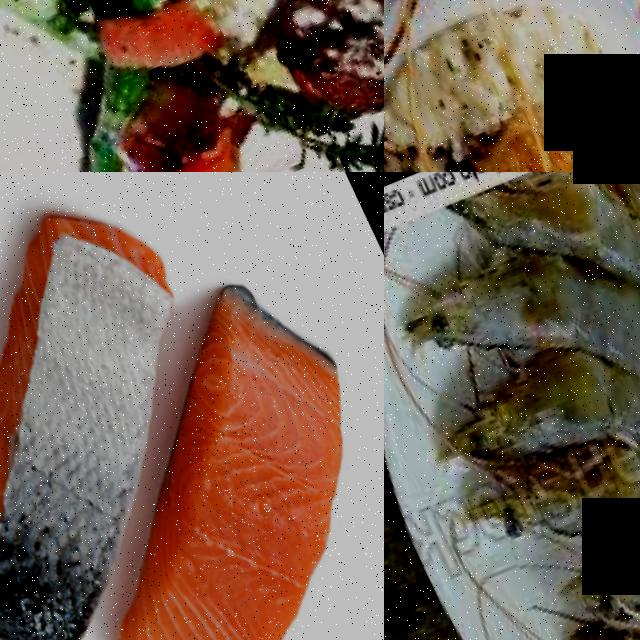salmon: (132, 282, 384, 582), (0, 177, 219, 453), (0, 386, 133, 640), (74, 523, 345, 640)
shrimp: (400, 235, 613, 395), (460, 415, 640, 598), (440, 334, 636, 487), (483, 172, 640, 281), (579, 483, 640, 639), (583, 244, 640, 405)
